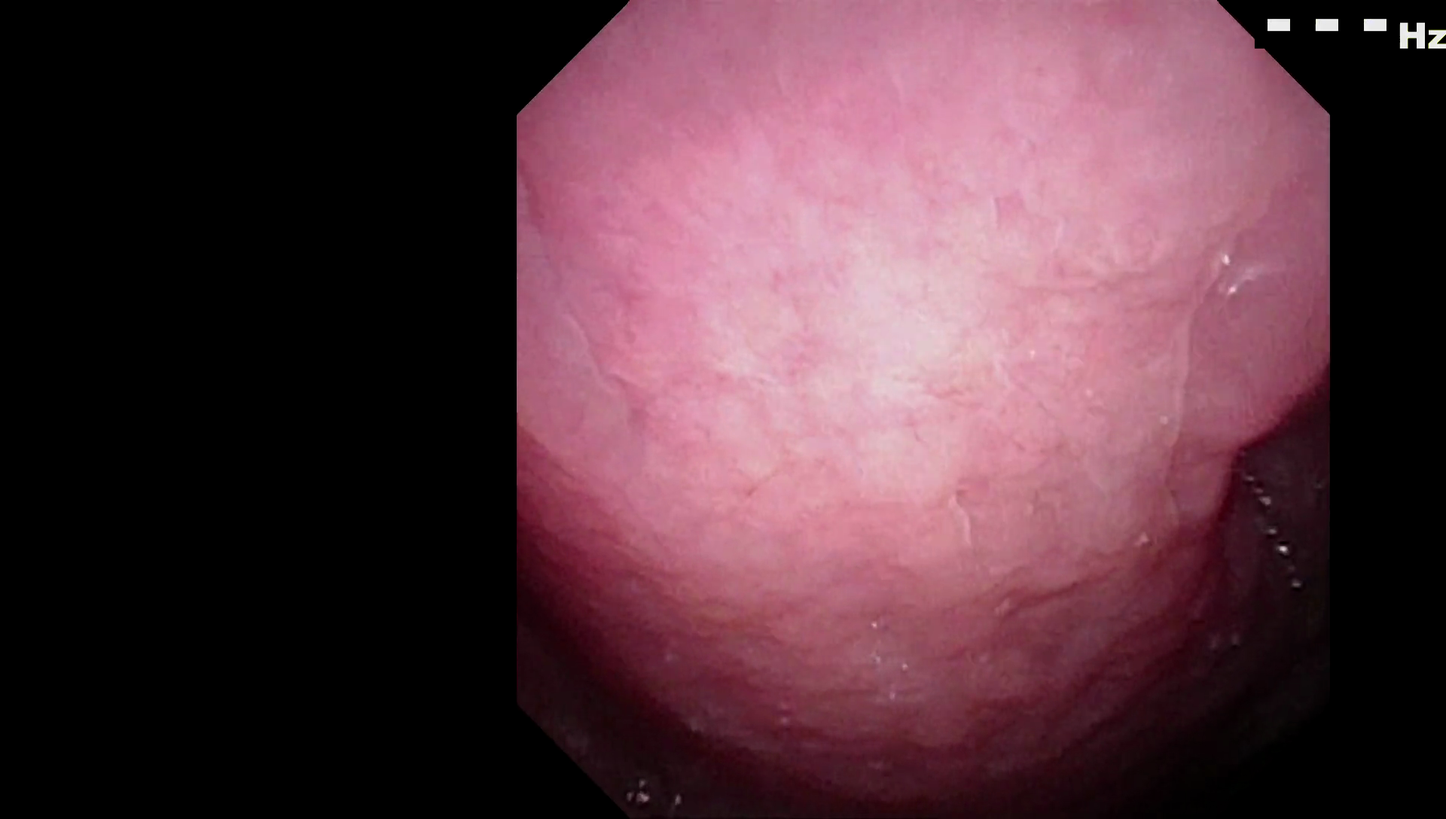close_wall: (565, 83, 1267, 623)
next: (554, 605, 824, 791), (1049, 592, 1293, 797), (1160, 372, 1314, 690)
